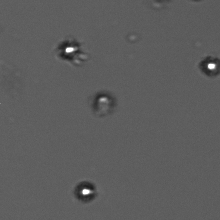Dead Cell: (96, 94, 117, 115)
Living Cell: (61, 42, 78, 57), (78, 186, 92, 198), (205, 58, 216, 72)
